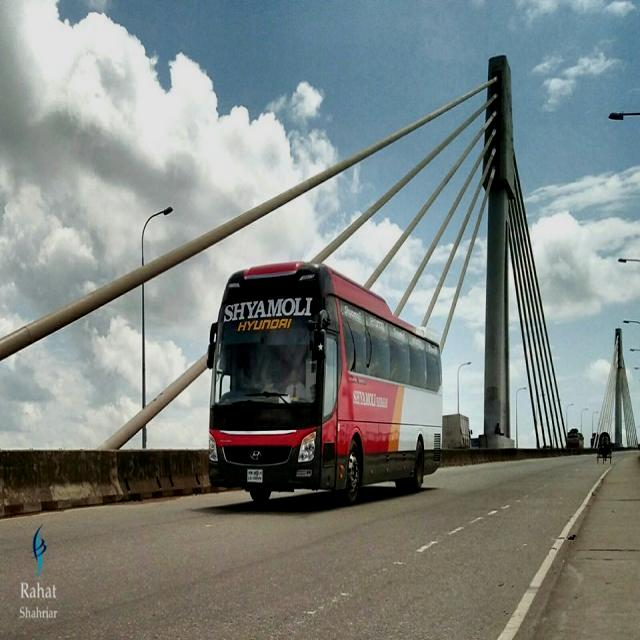bus: (205, 261, 446, 509)
